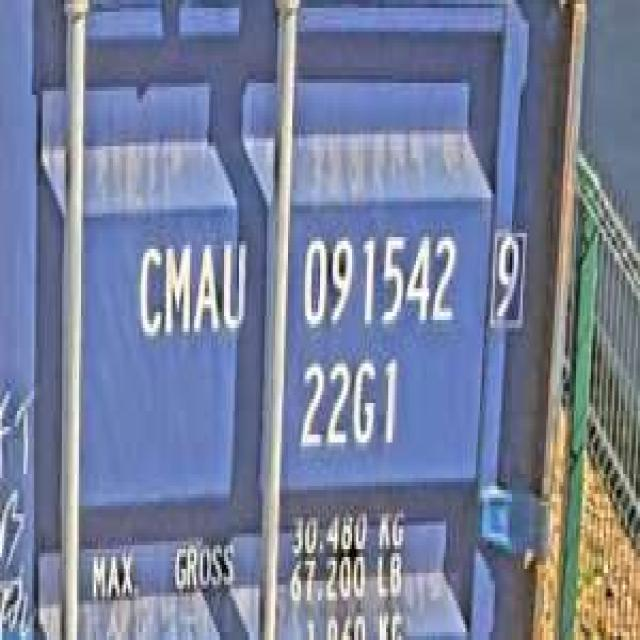dv: (484, 217, 529, 336)
owner: (130, 229, 252, 352)
serial: (296, 221, 458, 336)
size: (294, 348, 404, 458)
